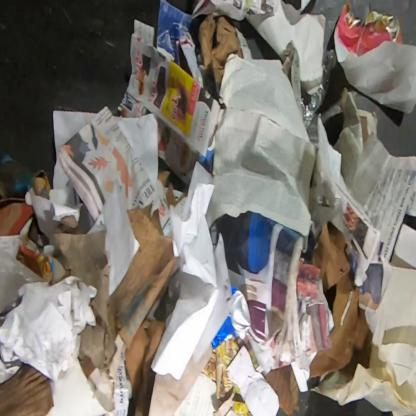cardboard: (310, 221, 378, 381), (198, 12, 244, 88), (0, 363, 56, 415), (264, 365, 301, 416), (16, 245, 53, 283), (166, 181, 188, 210), (158, 170, 170, 186)
metal: (211, 314, 240, 351)
rigid_plastic: (301, 49, 336, 131)
soft_plastic: (0, 235, 48, 330)
